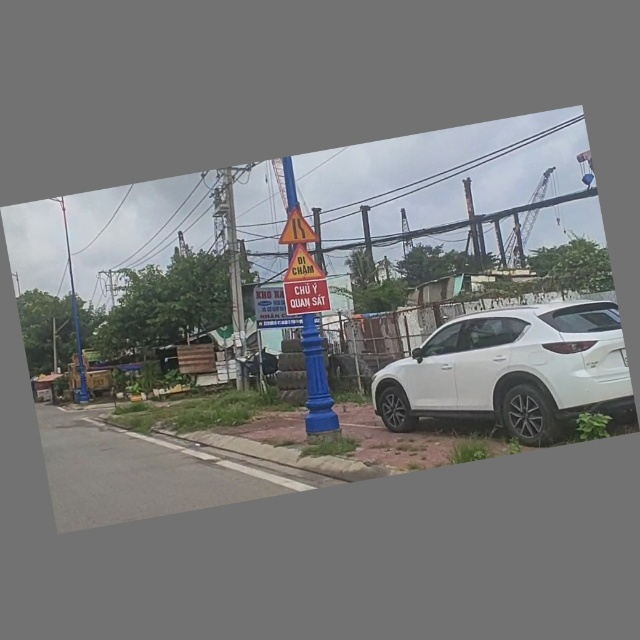W.203c: (273, 203, 320, 248)
W.245a: (277, 241, 327, 286)
